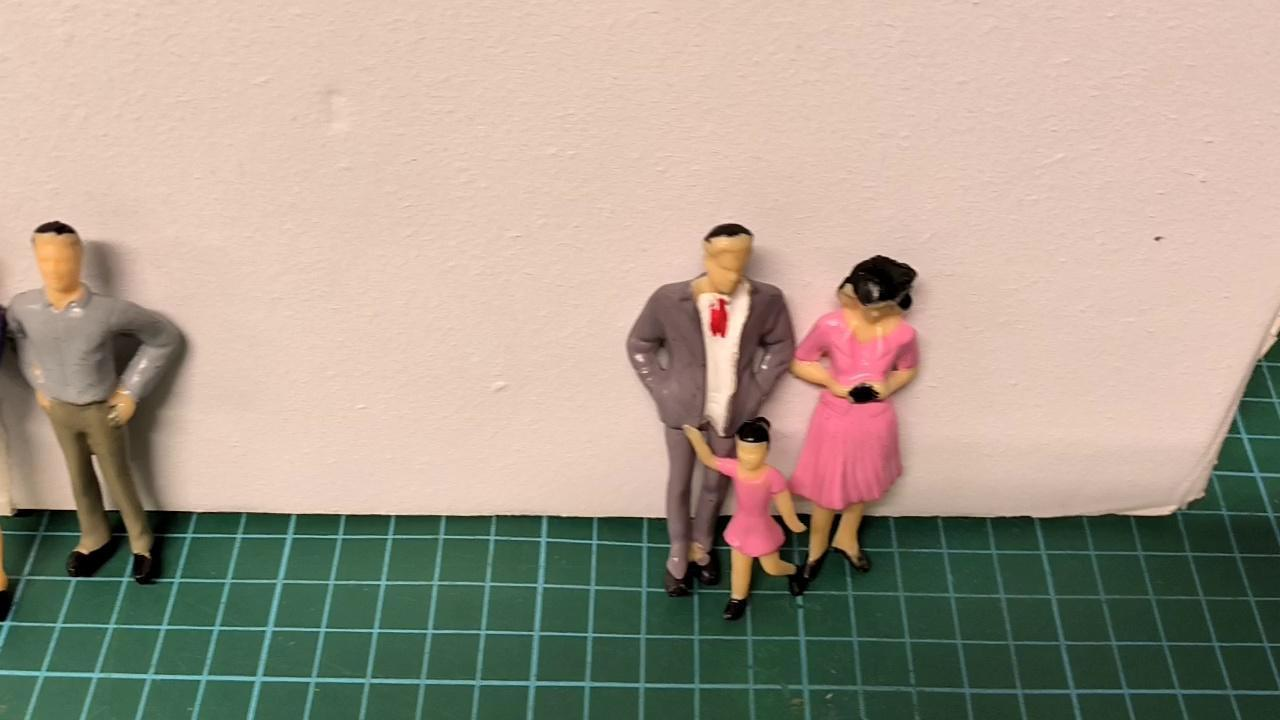human: (3, 218, 189, 580), (627, 224, 797, 598), (788, 256, 924, 594), (676, 416, 812, 630), (0, 270, 27, 632)
